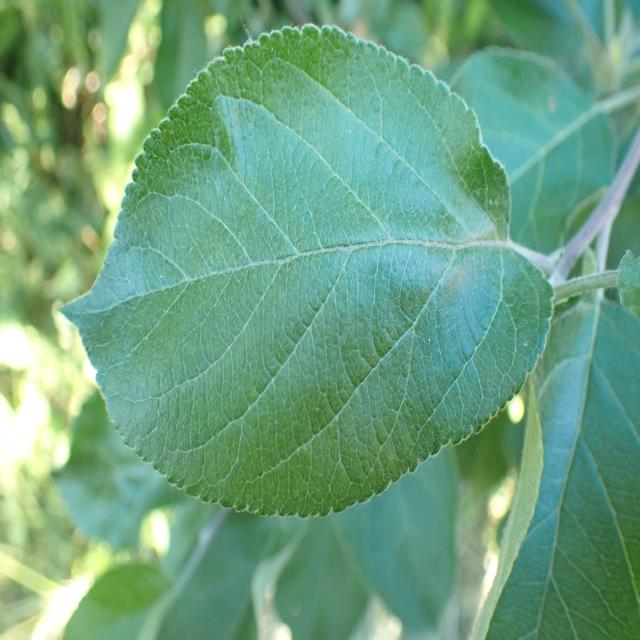healthy: (57, 22, 554, 519), (470, 250, 640, 639)
